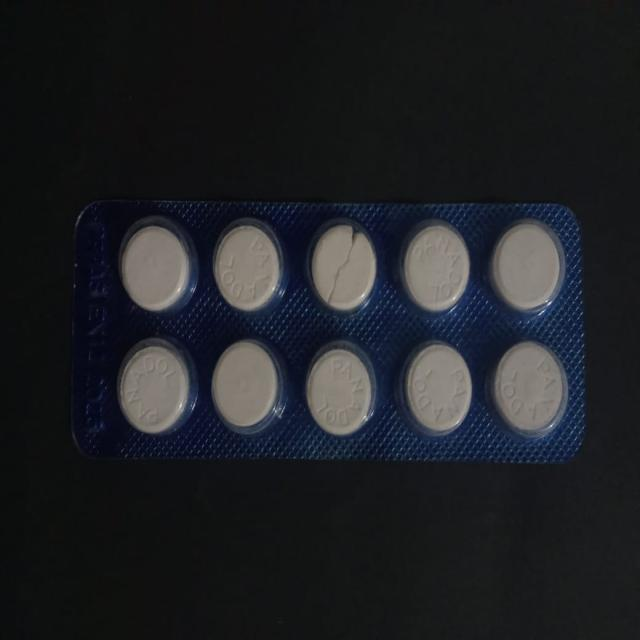defect: (306, 215, 380, 318)
